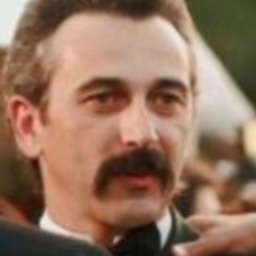Person: (3, 1, 229, 256)
